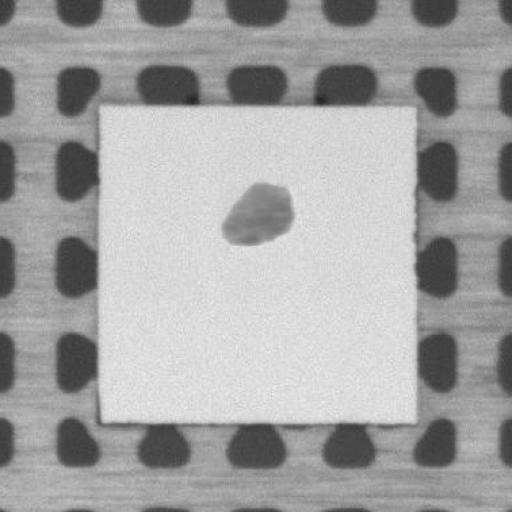DIE_INK: (206, 168, 306, 257)
